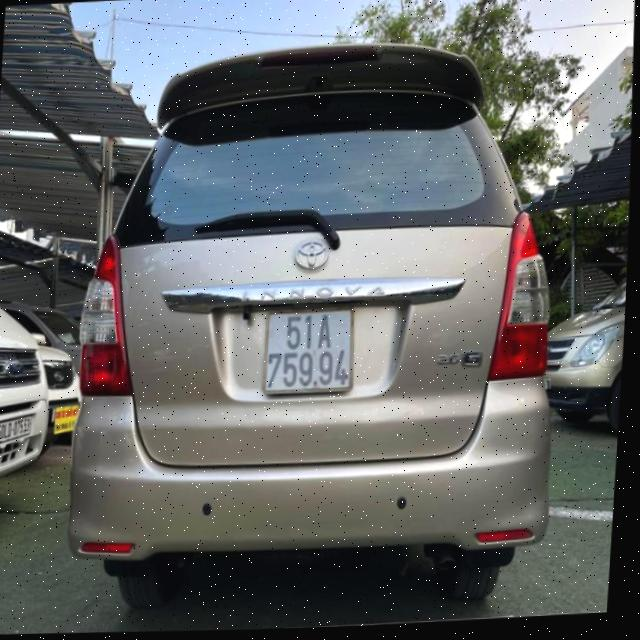car: (60, 29, 579, 623), (0, 195, 92, 525), (540, 243, 628, 449)
plate: (252, 296, 366, 405), (0, 405, 45, 448)
